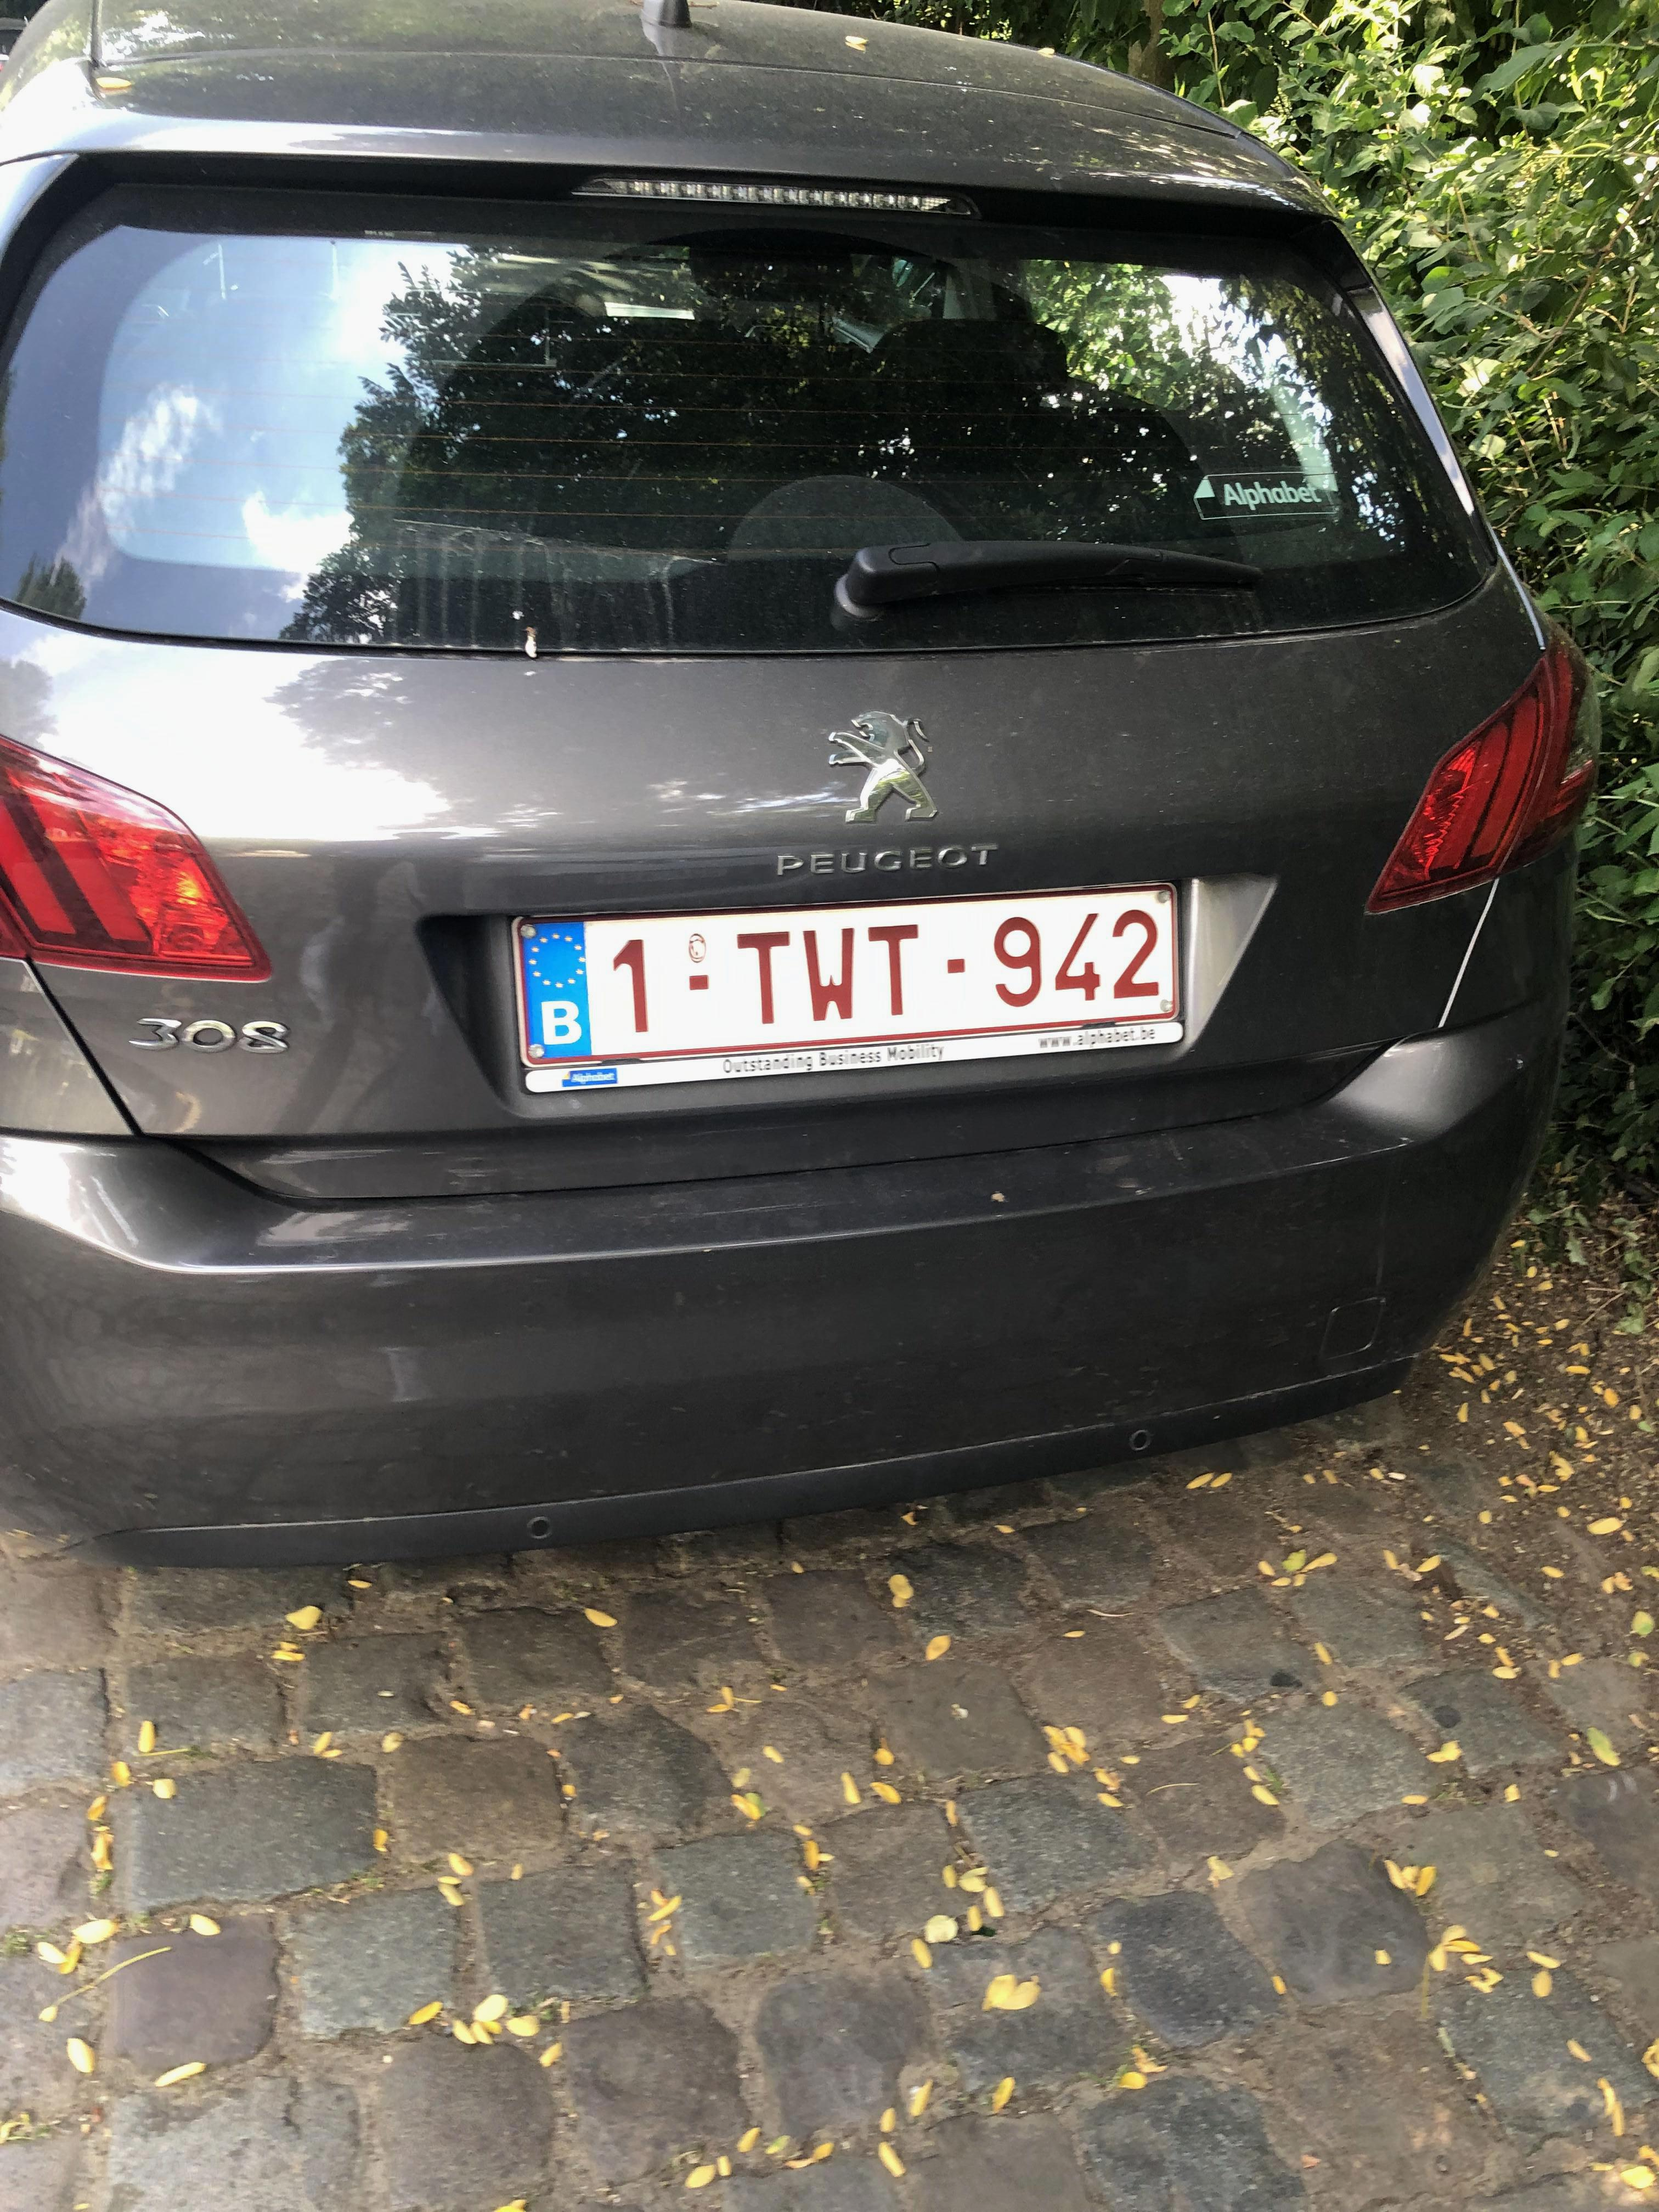plate: (500, 853, 1210, 1073)
